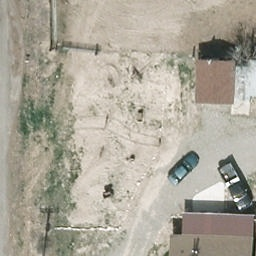car: (166, 151, 202, 187)
pickup: (218, 161, 255, 214)
